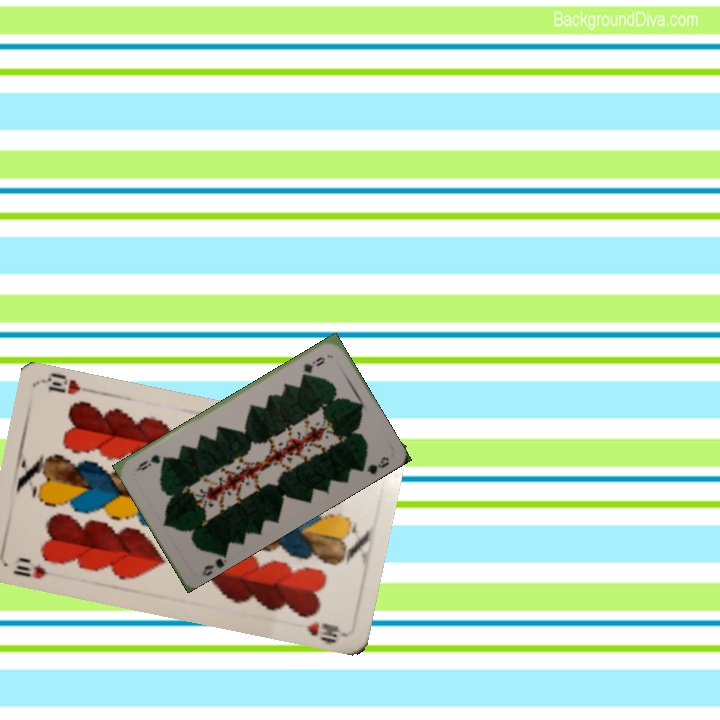G9: (198, 548, 229, 578), (298, 352, 328, 379)
H10: (9, 561, 49, 582)
